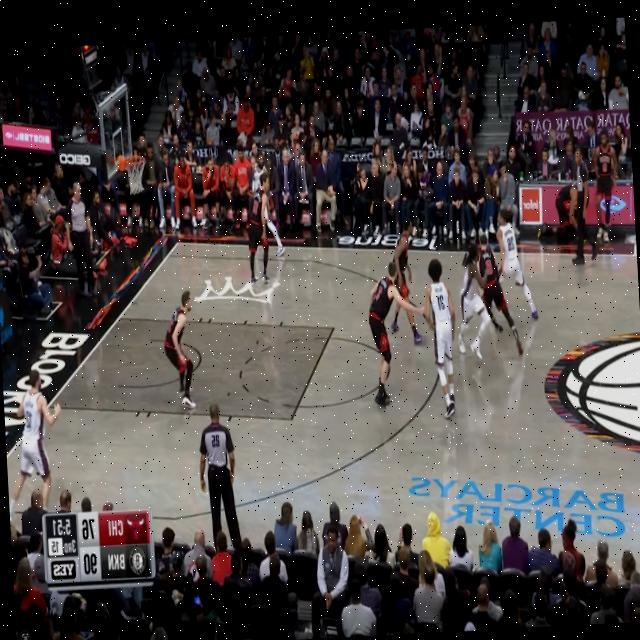no foul: (349, 217, 486, 438), (448, 204, 531, 380)
